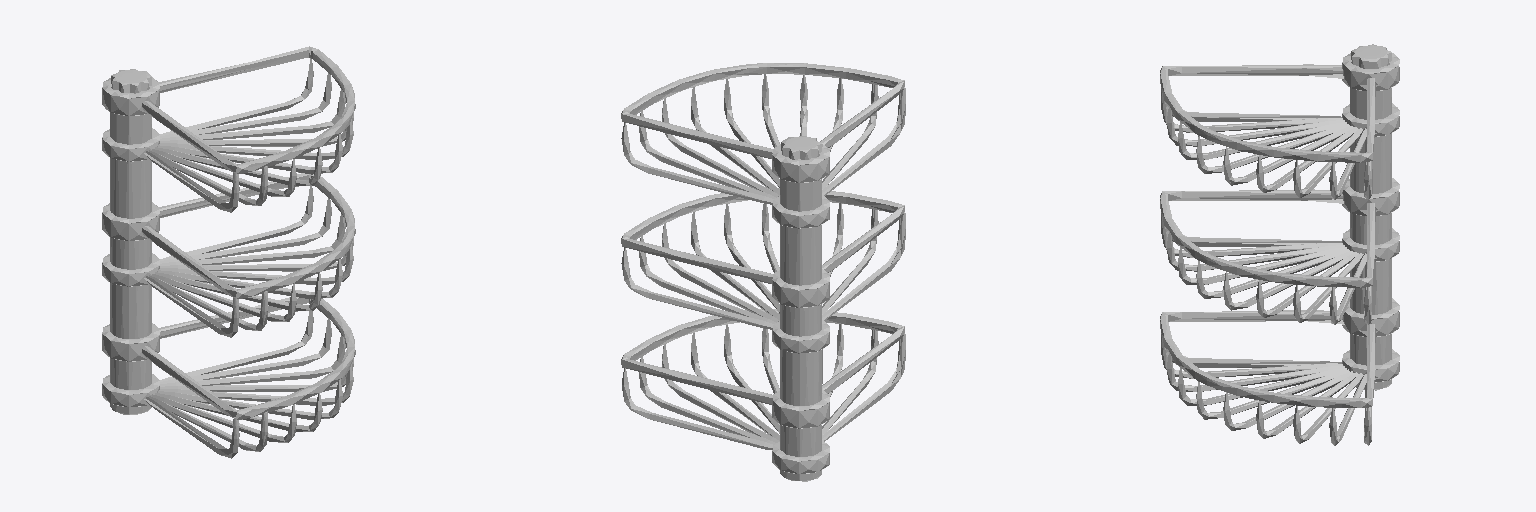
File: ShowerCaddy.obj
3 renders of one model, left to right at view 1: azimuth 30°, elevation 25°; view 2: azimuth 150°, elevation 25°; view 3: azimuth 270°, elevation 25°, orthographic.
Visible parts, largest first — view 1: 11._Shower_Caddy.001_20448_Pole_Shower_Caddy_v2.001; view 2: 11._Shower_Caddy.001_20448_Pole_Shower_Caddy_v2.001; view 3: 11._Shower_Caddy.001_20448_Pole_Shower_Caddy_v2.001.
Boxes of the visible parts, x1,y1,x2,y2 form: 11._Shower_Caddy.001_20448_Pole_Shower_Caddy_v2.001: [102, 46, 355, 458]; 11._Shower_Caddy.001_20448_Pole_Shower_Caddy_v2.001: [621, 63, 905, 481]; 11._Shower_Caddy.001_20448_Pole_Shower_Caddy_v2.001: [1160, 44, 1399, 445].
Size of the model in its own units: 1.45 by 2.19 by 1.45.